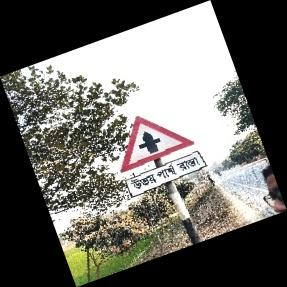Crossroad: (119, 116, 207, 201)
